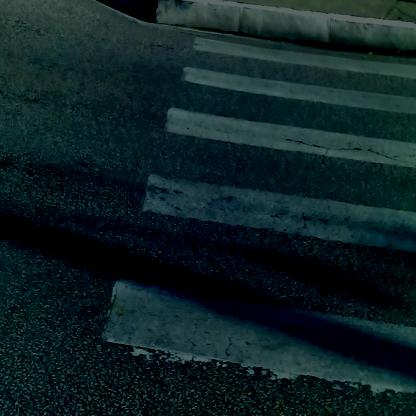crosswalk: (105, 57, 416, 381)
sidewalk: (132, 2, 415, 57)
